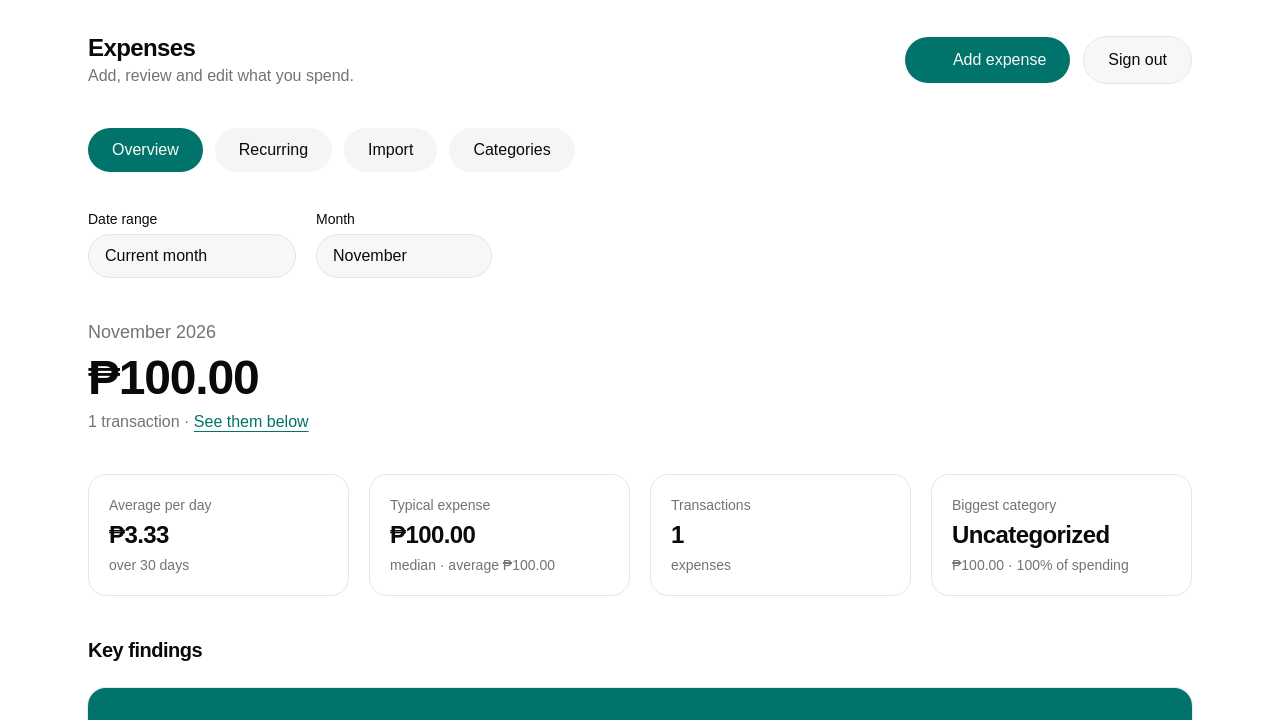
Test: session gate › sign out returns to the PIN screen and drops cached data
Click the button "Sign out".
click(1138, 60)  # box [1083,36,1192,84]
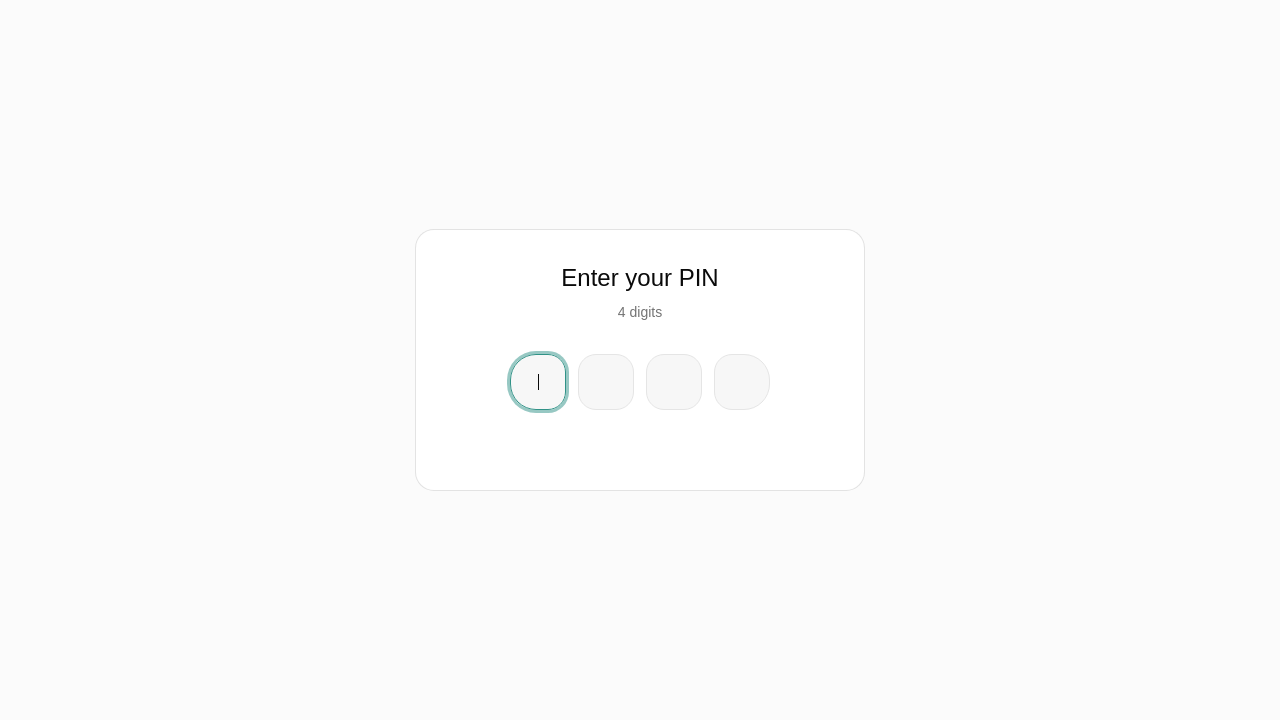
Check: the text "Enter your PIN" is shown, box [561,264,719,291]
